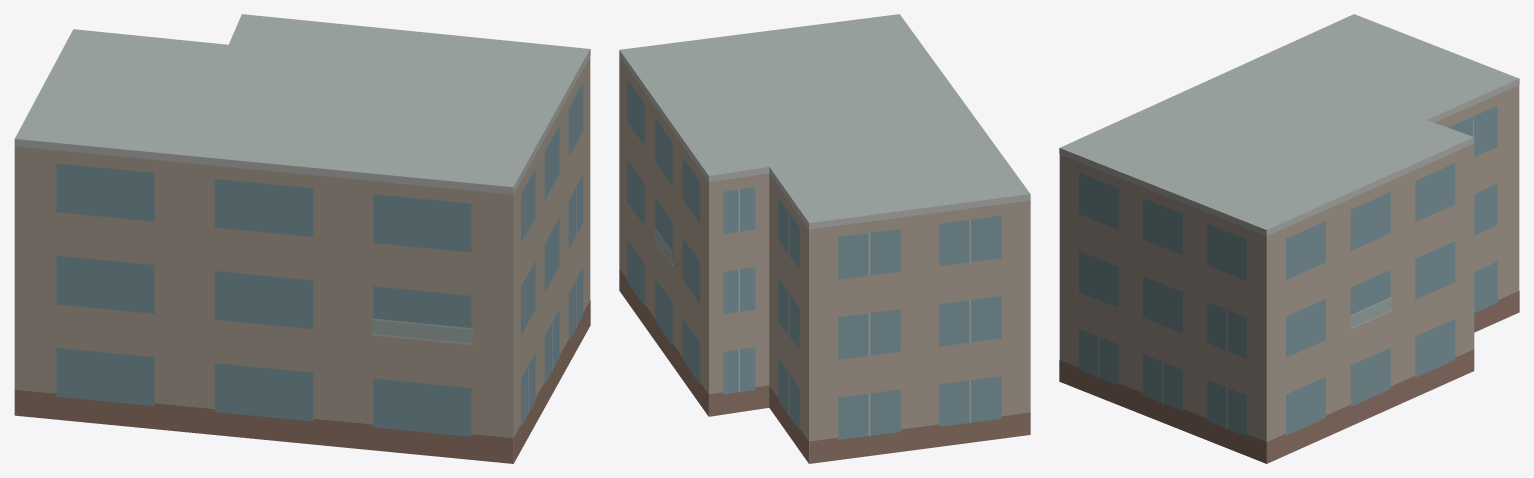
Rendered from survey-upis-32661520.glb.
3 views of the same model, side by side, from view 1: azimuth 30°, elevation 25°; view 2: azimuth 150°, elevation 25°; view 3: azimuth 270°, elevation 25° (orthographic). The views are drawn at different scales.
Visible parts, largest first — view 1: survey-upis-32661520.tmp; view 2: survey-upis-32661520.tmp; view 3: survey-upis-32661520.tmp.
Boxes of the visible parts, x1,y1,x2,y2 form: survey-upis-32661520.tmp: [14, 14, 590, 463]; survey-upis-32661520.tmp: [619, 14, 1030, 463]; survey-upis-32661520.tmp: [1059, 14, 1519, 463].
Size of the model in its own units: 18.05 by 9.1 by 16.23.
